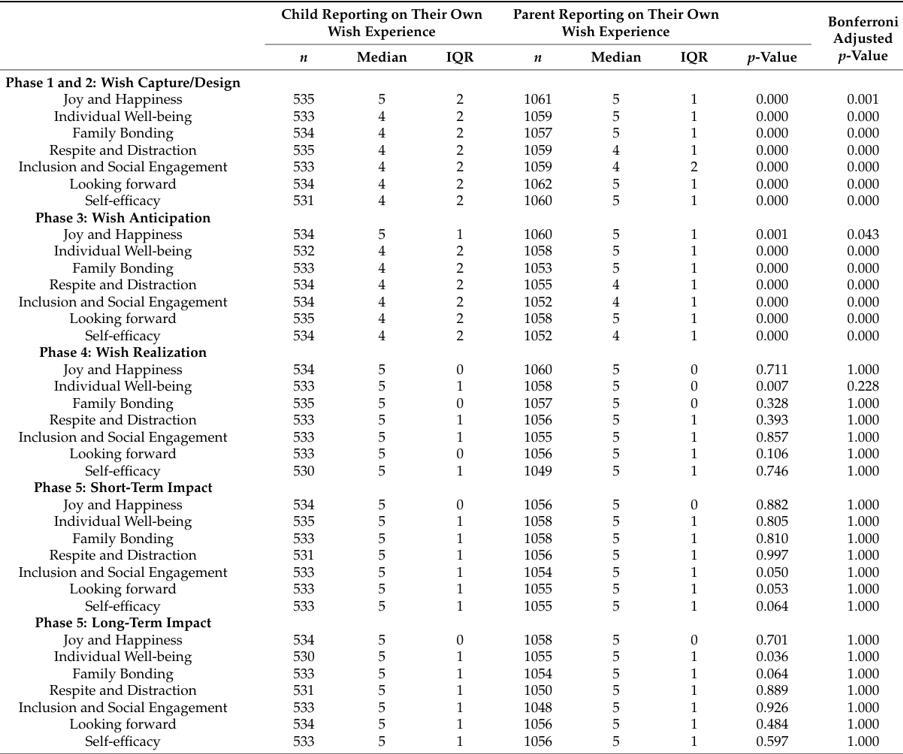table: (4, 5, 898, 748)
table column: (4, 5, 253, 748), (334, 5, 425, 748), (570, 5, 660, 748), (811, 5, 898, 748), (253, 5, 334, 748), (732, 5, 811, 748), (497, 5, 570, 748), (425, 5, 497, 748), (660, 5, 732, 748)
table column header: (4, 5, 898, 68)
table projected row header: (4, 68, 898, 90), (4, 208, 898, 225), (4, 343, 898, 360), (4, 478, 898, 495), (4, 613, 898, 630)
table row: (4, 5, 898, 43), (4, 43, 898, 68), (4, 68, 898, 90), (4, 106, 898, 123), (4, 123, 898, 140), (4, 140, 898, 157), (4, 157, 898, 174), (4, 174, 898, 191), (4, 191, 898, 208), (4, 208, 898, 225), (4, 241, 898, 258), (4, 258, 898, 275), (4, 275, 898, 292), (4, 292, 898, 309), (4, 309, 898, 326), (4, 326, 898, 343), (4, 343, 898, 360), (4, 360, 898, 377), (4, 393, 898, 410), (4, 410, 898, 427), (4, 427, 898, 444), (4, 444, 898, 461), (4, 461, 898, 478), (4, 478, 898, 495), (4, 495, 898, 512), (4, 512, 898, 529), (4, 545, 898, 562), (4, 562, 898, 579), (4, 579, 898, 596), (4, 596, 898, 613), (4, 613, 898, 630), (4, 630, 898, 647), (4, 647, 898, 664), (4, 680, 898, 697), (4, 697, 898, 714), (4, 714, 898, 731), (4, 731, 898, 748), (4, 90, 898, 106), (4, 225, 898, 241), (4, 377, 898, 393), (4, 529, 898, 545), (4, 664, 898, 680)
table spanning cell: (253, 5, 497, 43), (497, 5, 732, 43), (811, 5, 898, 68), (732, 5, 811, 68)
